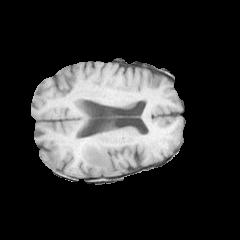glioma: (78, 135, 135, 176)
